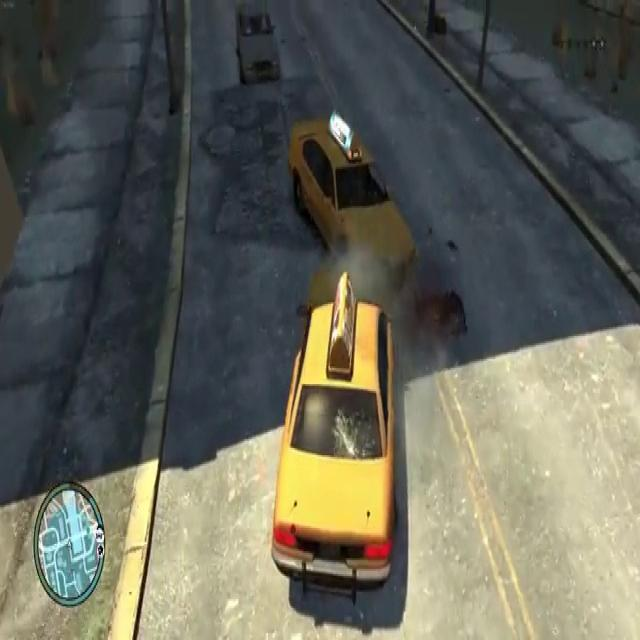moderate: (267, 93, 419, 598)
